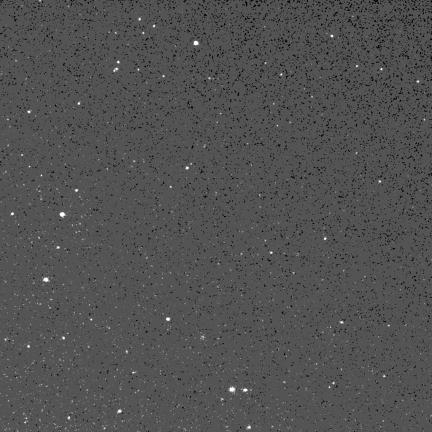blob: (60, 212, 66, 218), (44, 278, 50, 283), (229, 387, 235, 392), (194, 41, 200, 46), (185, 166, 189, 171), (117, 409, 122, 413), (11, 212, 15, 216), (166, 317, 170, 321), (62, 337, 66, 341), (417, 80, 420, 84), (78, 102, 81, 106), (27, 110, 31, 113), (27, 345, 30, 349), (324, 237, 327, 241), (75, 189, 79, 192), (139, 18, 142, 22), (340, 321, 344, 324), (57, 246, 60, 249), (117, 61, 120, 64), (153, 25, 156, 28), (331, 35, 334, 38), (68, 416, 70, 419)
